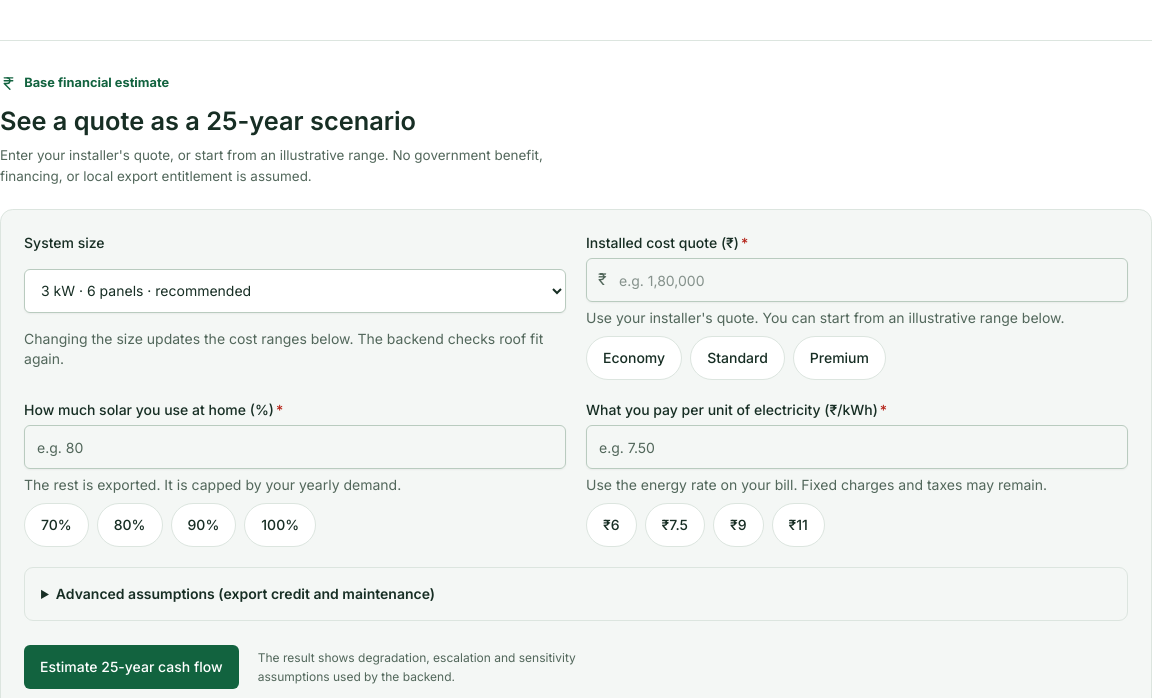
Test: base financial estimate UI › shows a per-field error and one summary alert, and starts advanced assumptions at an explicit zero
Expected: the element named "Export credit (₹/kWh)" holds "0", x1=24 y1=567 x2=1128 y2=621
Click the button "Estimate 25-year cash flow" at (131, 667), box x1=24 y1=645 x2=239 y2=689
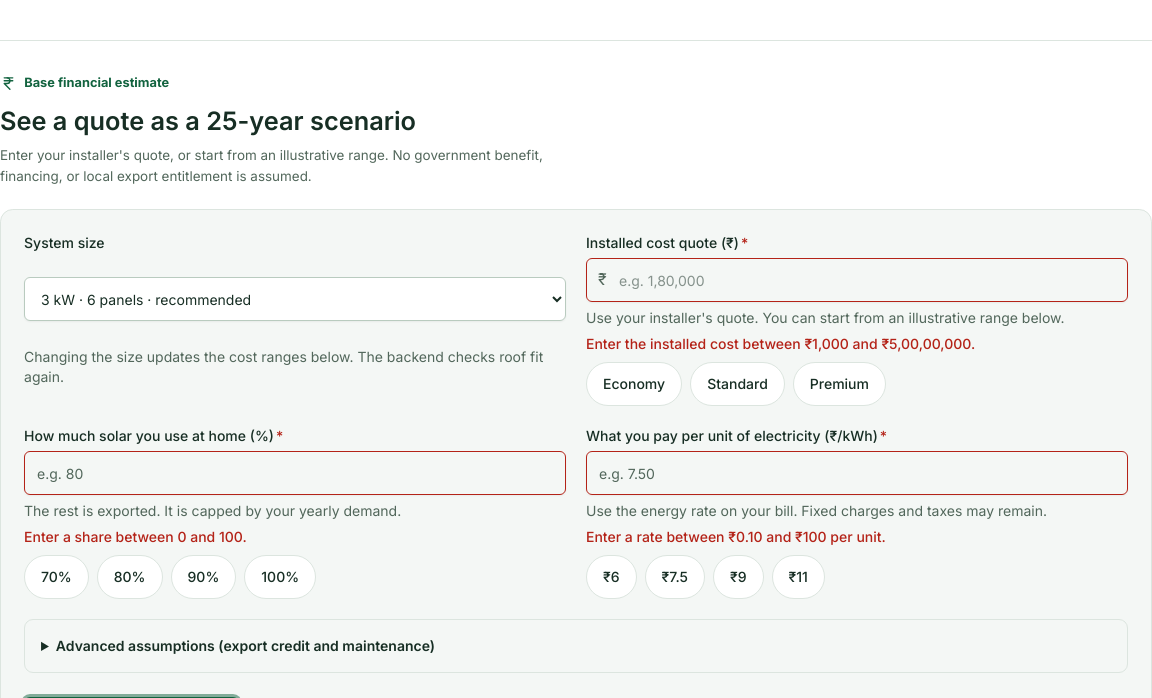
Expected: the text with id "financial-quote-error" shows "Enter the installed cost between", x1=586 y1=335 x2=975 y2=352
